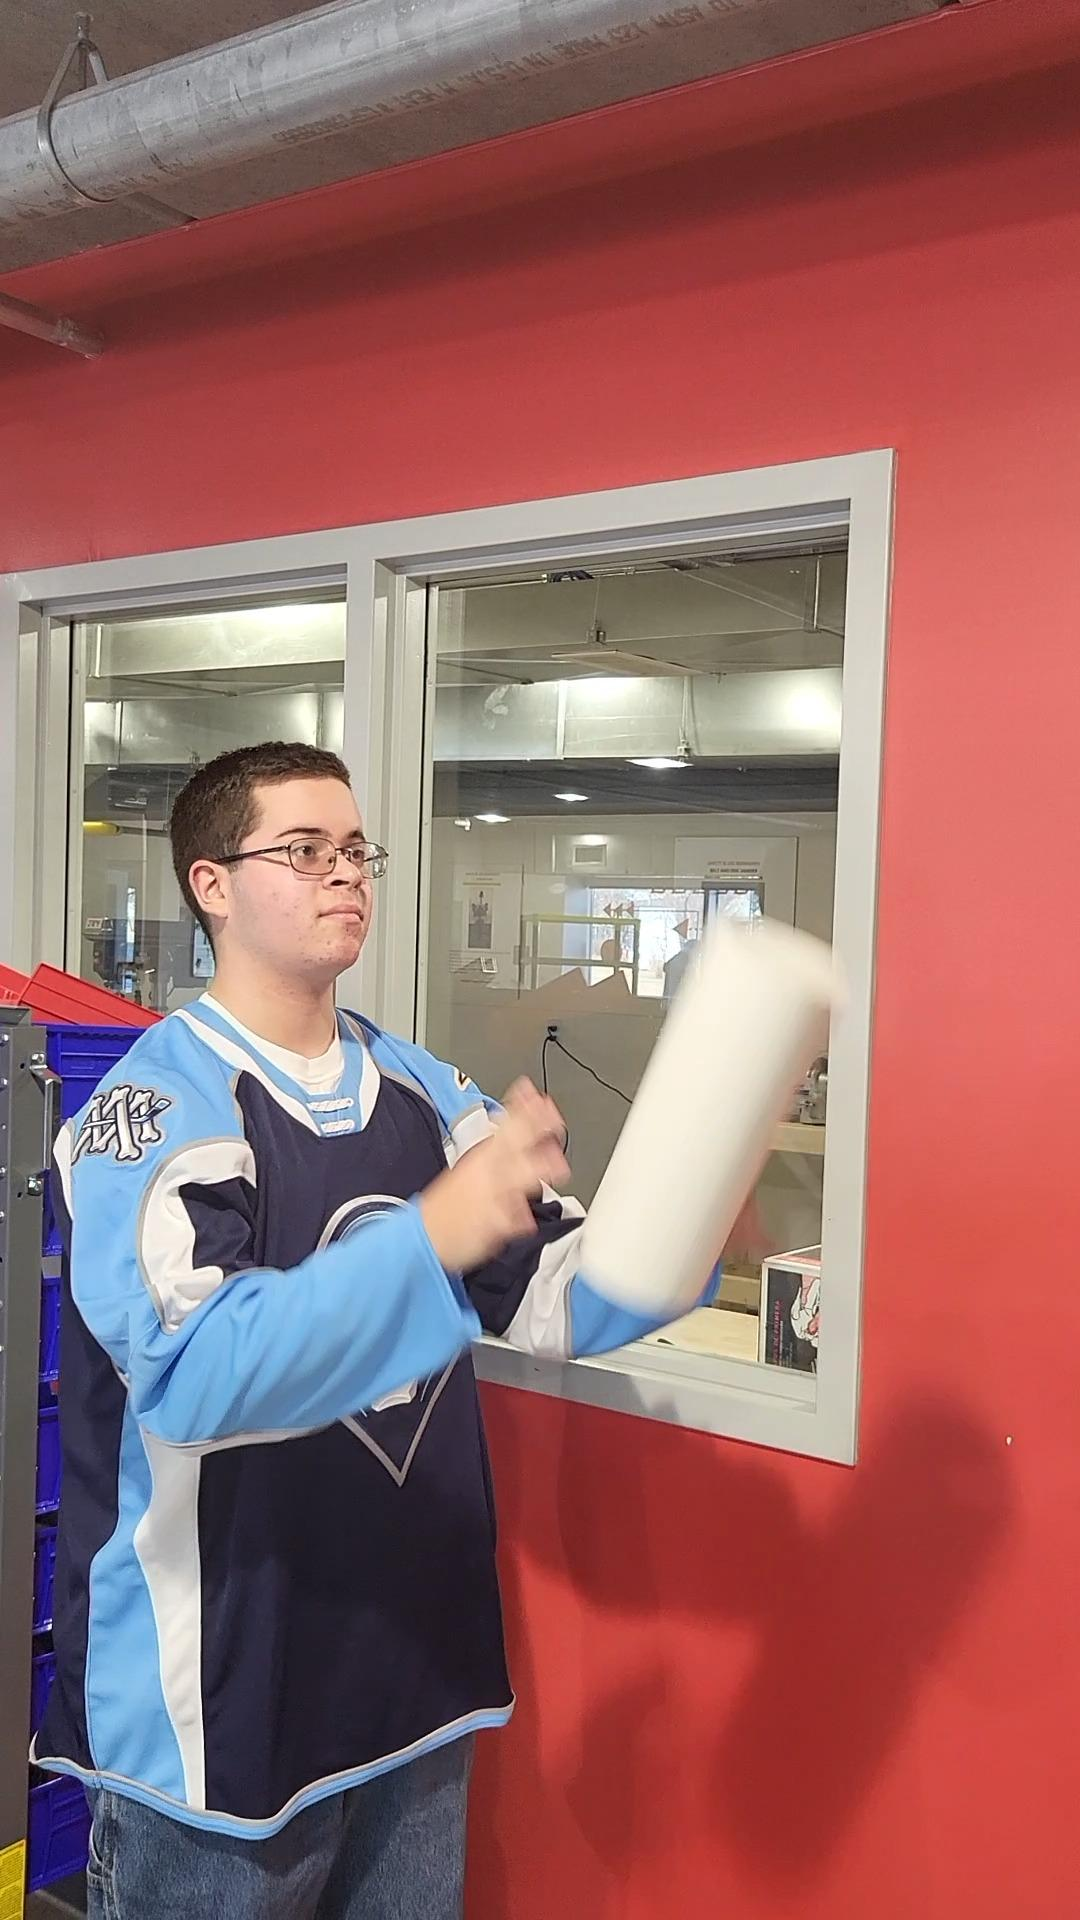coral: (567, 907, 853, 1327)
